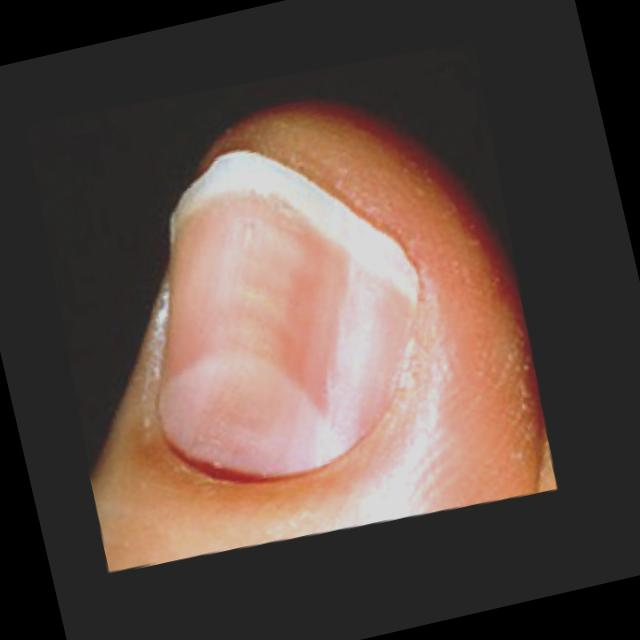Nail: (155, 149, 420, 492)
